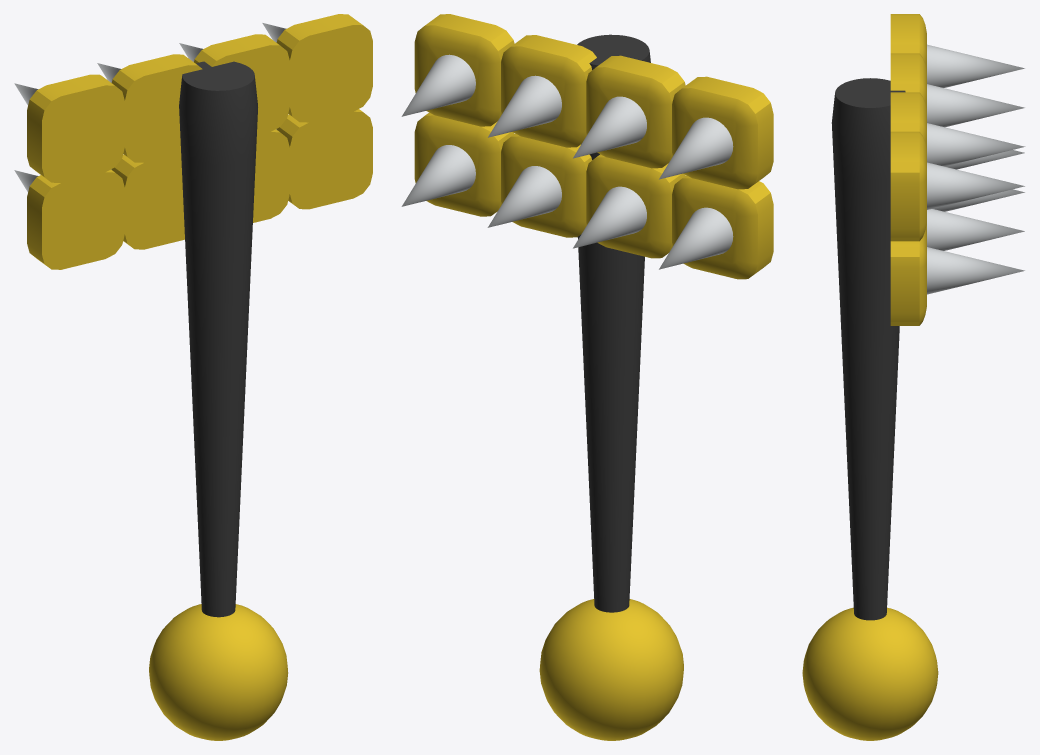
Rendered from pinchos 1.fbx.
The picture shows the model from 3 angles, left to right: view 1: azimuth 30°, elevation 25°; view 2: azimuth 150°, elevation 25°; view 3: azimuth 270°, elevation 25°; orthographic projection. The views are drawn at different scales.
Parts seen in each view (by area): view 1: Pinchos; view 2: Pinchos; view 3: Pinchos.
Boxes of the visible parts, <box> form: Pinchos: <box>14,14,372,740</box>; Pinchos: <box>401,14,773,740</box>; Pinchos: <box>802,14,1025,740</box>.
Size of the model in its own units: 37.37 by 71.93 by 22.41.
